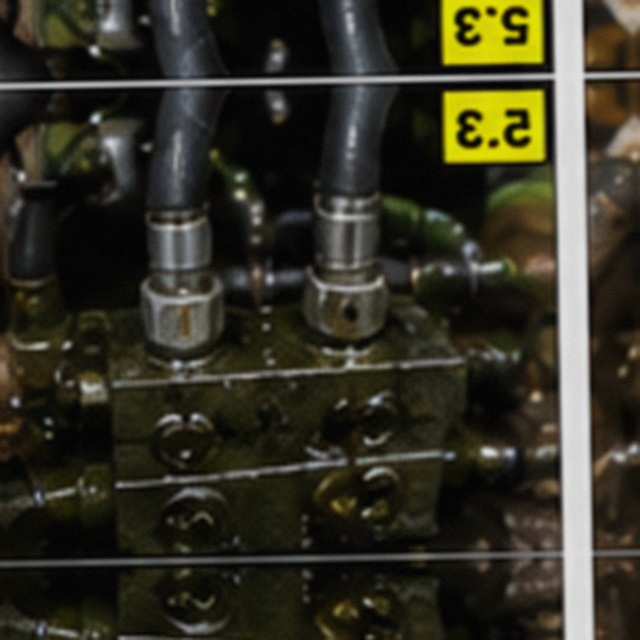hydraulic_oil_leak: (193, 213, 495, 458)
